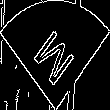M_SW: (31, 21, 79, 89)
